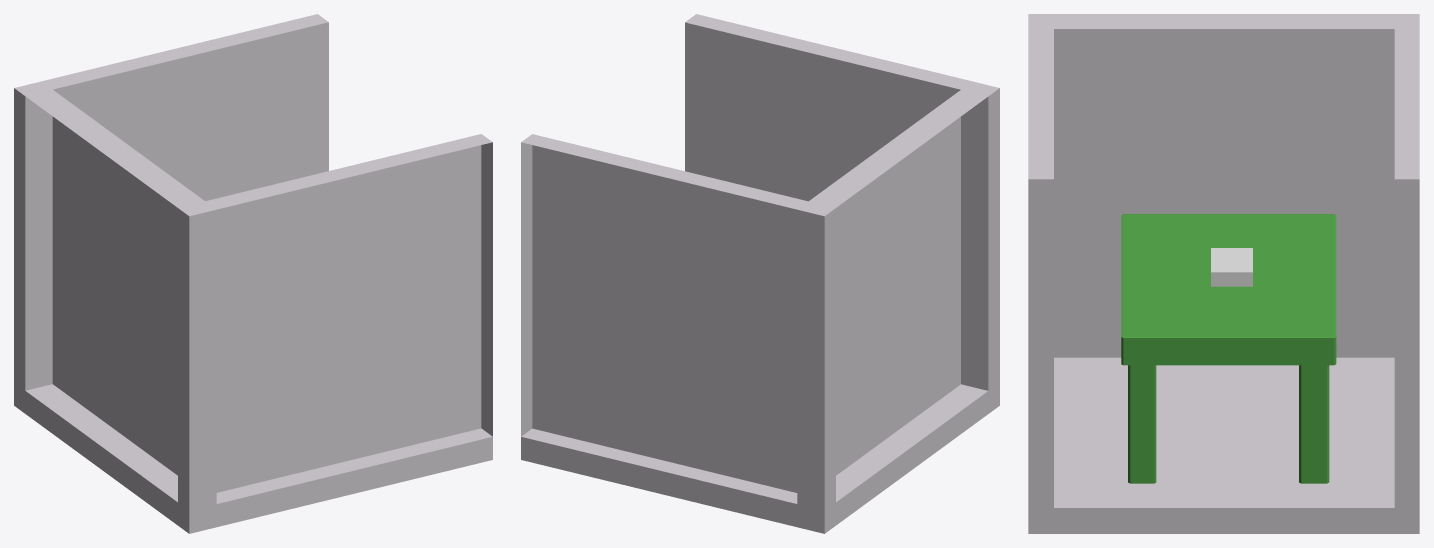
File: box animation.fbx
3 views of the same model, side by side, from view 1: azimuth 30°, elevation 25°; view 2: azimuth 150°, elevation 25°; view 3: azimuth 270°, elevation 25° (orthographic). The views are drawn at different scales.
Visible parts, largest first — view 1: Cube.003; view 2: Cube.003; view 3: Cube.003, Cube.001, Cube.002.
Boxes of the visible parts, x1,y1,x2,y2 form: Cube.003: (14, 14, 492, 533); Cube.003: (521, 14, 999, 533); Cube.003: (1028, 14, 1419, 533); Cube.001: (1121, 214, 1336, 483); Cube.002: (1211, 248, 1252, 286).
Bounding box in the file's own units: 200 × 200 × 200.
